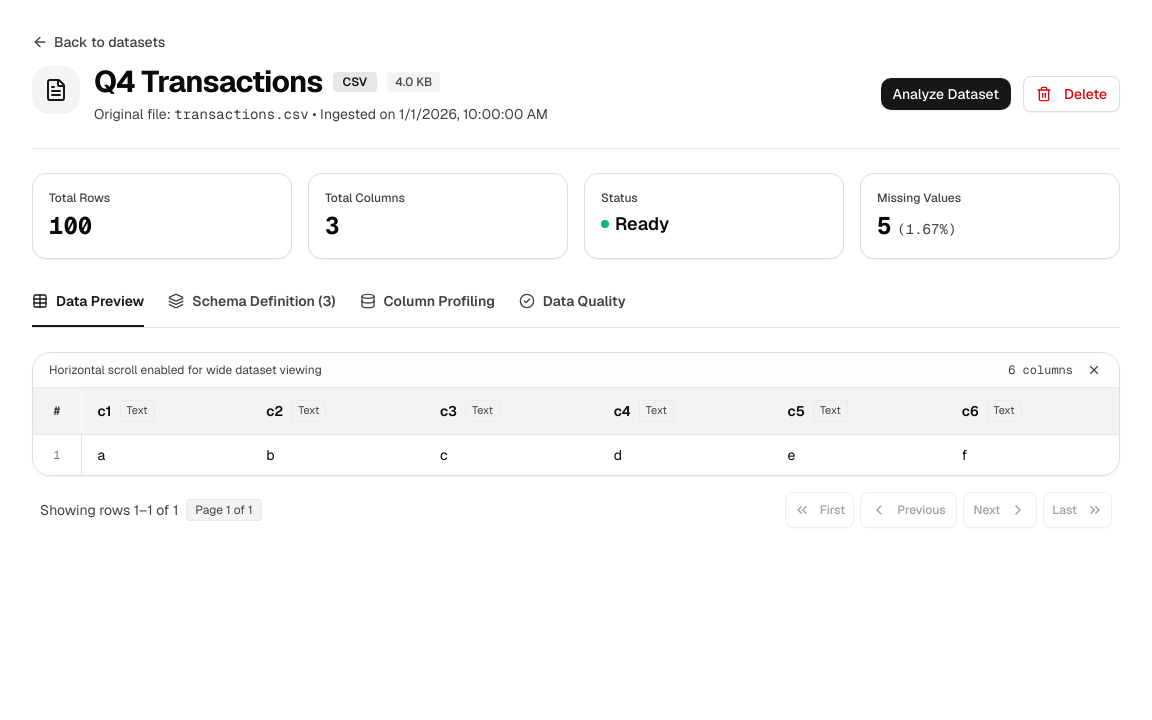
Test: M2 Dataset Experience › DatasetDetailPage › allows dismissing the horizontal scroll hint banner on wide tables
Check: the text "Horizontal scroll enabled for wide dataset viewing" is shown, box [49,362,322,378]
Click the button named "dismiss scroll hint" at x=1094, y=370, box [1085,361,1103,379]
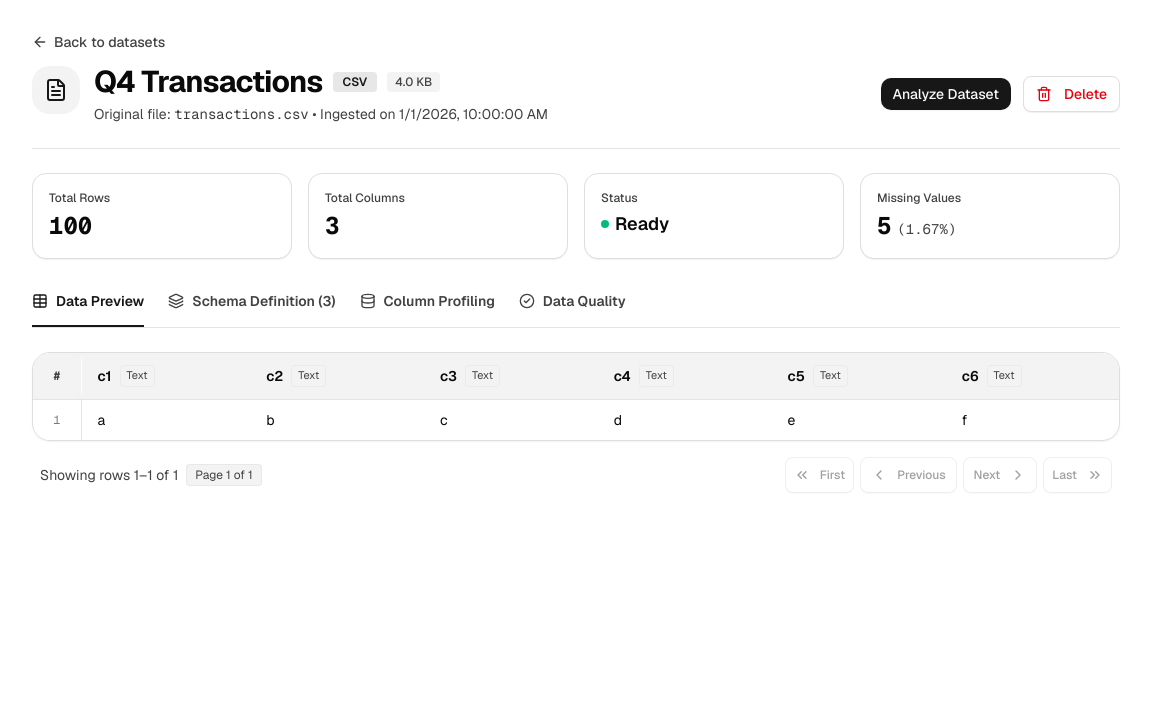
Check: the text "Horizontal scroll enabled for wide dataset viewing" is gone
